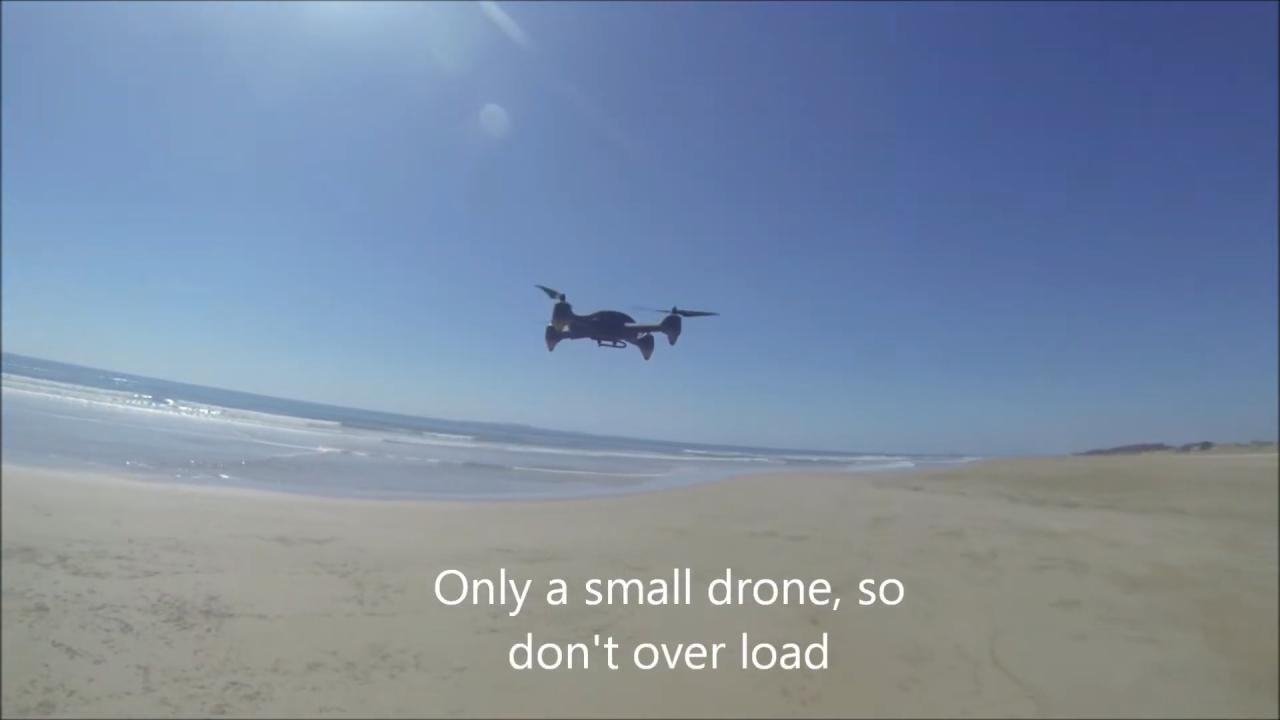Drone: (522, 267, 732, 371)
